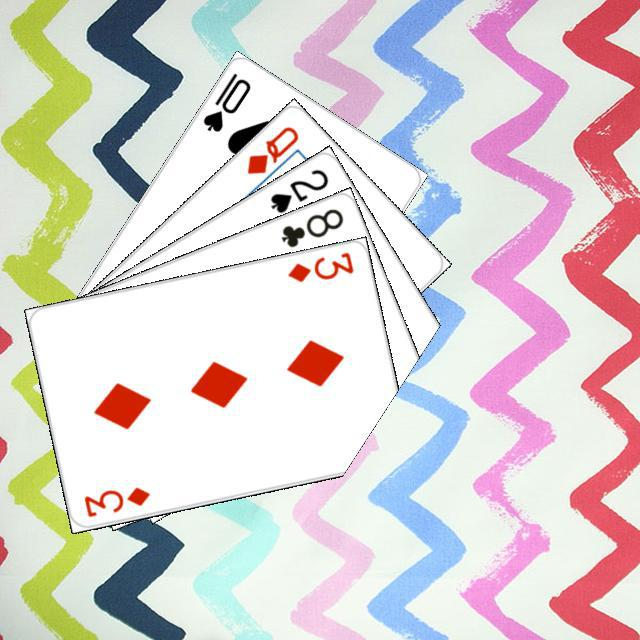10s: (197, 68, 253, 134)
2s: (265, 164, 331, 215)
3d: (283, 247, 356, 284), (79, 482, 151, 519)
8c: (276, 203, 345, 249)
Qd: (241, 121, 301, 176)
